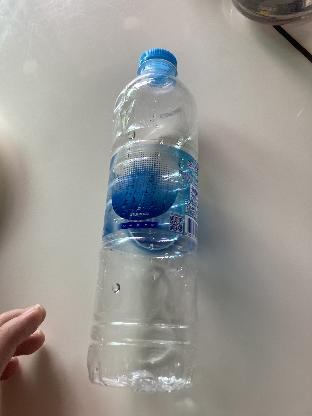Plastic Bottle: (81, 41, 201, 396)
